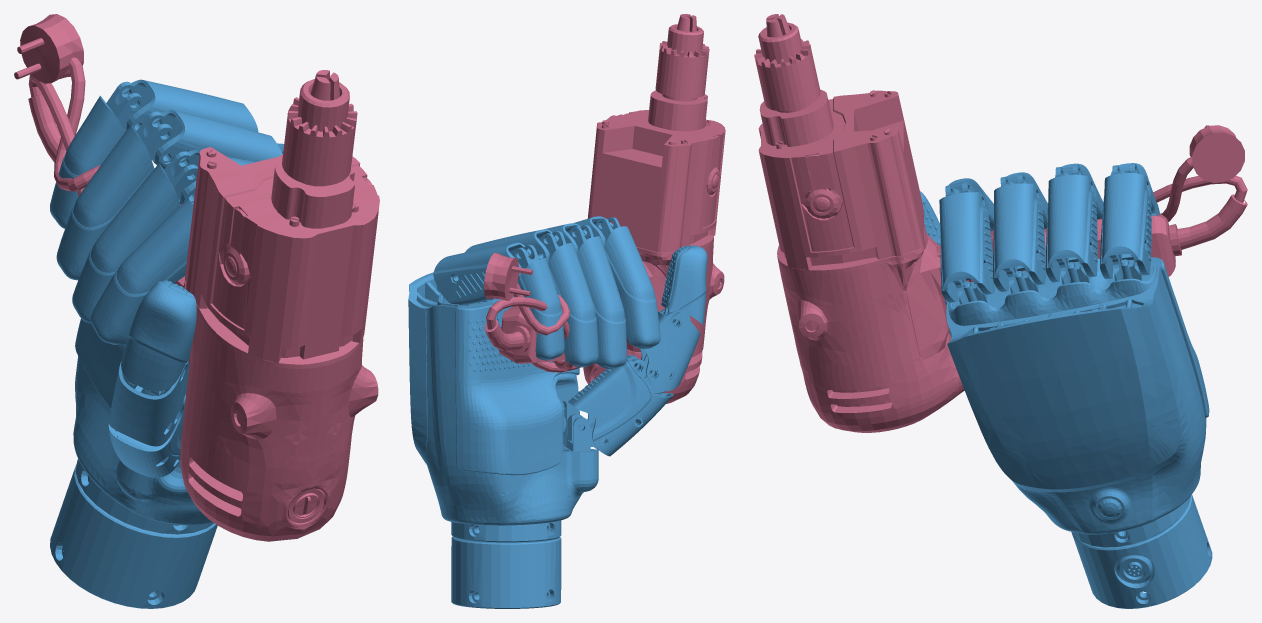
3 views of the same model, side by side, from view 1: azimuth 30°, elevation 25°; view 2: azimuth 150°, elevation 25°; view 3: azimuth 270°, elevation 25° (orthographic). The views are drawn at different scales.
Parts seen in each view (by area): view 1: 3; view 2: 3; view 3: 3.
Part boxes in pixels (x1,y1,x2,y2): 3: (14,14,379,608); 3: (408,14,725,608); 3: (754,14,1247,608).
Bounding box in the file's own units: 0.1103 × 0.2448 × 0.1946.
